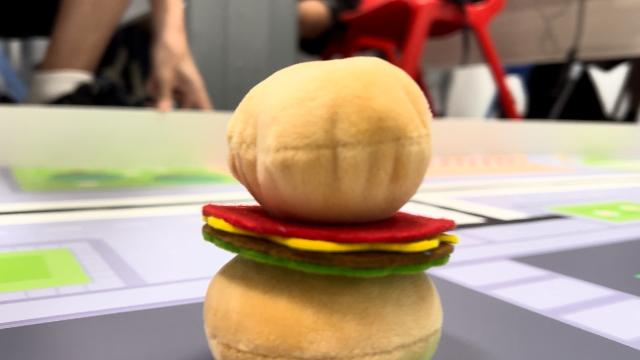burger: (202, 59, 458, 360)
